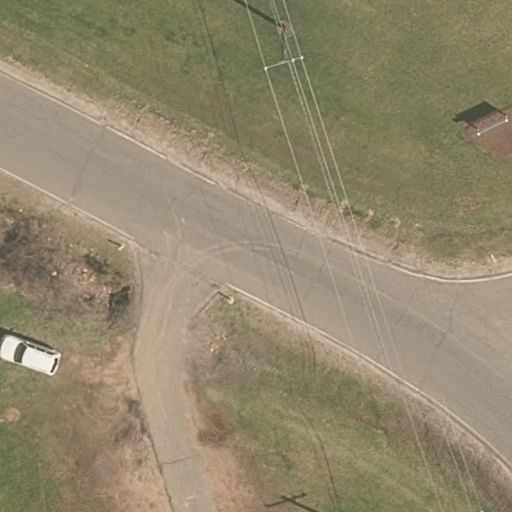DT: (252, 13, 309, 81)
